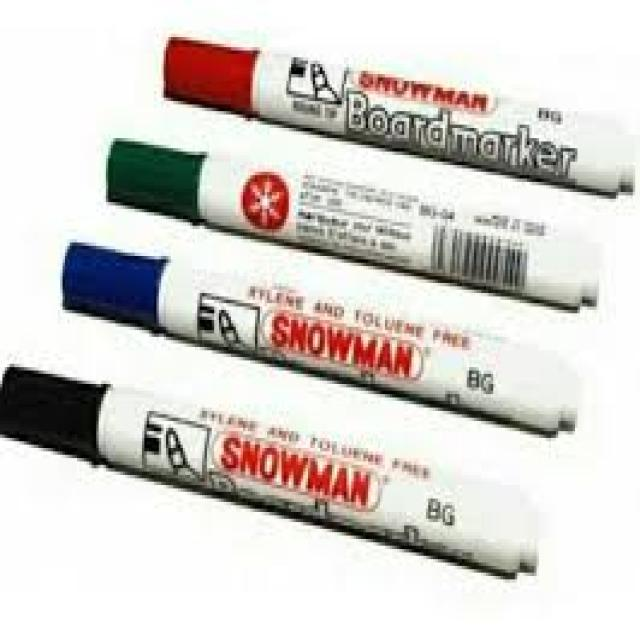marker: (5, 362, 540, 585), (104, 133, 601, 310)
